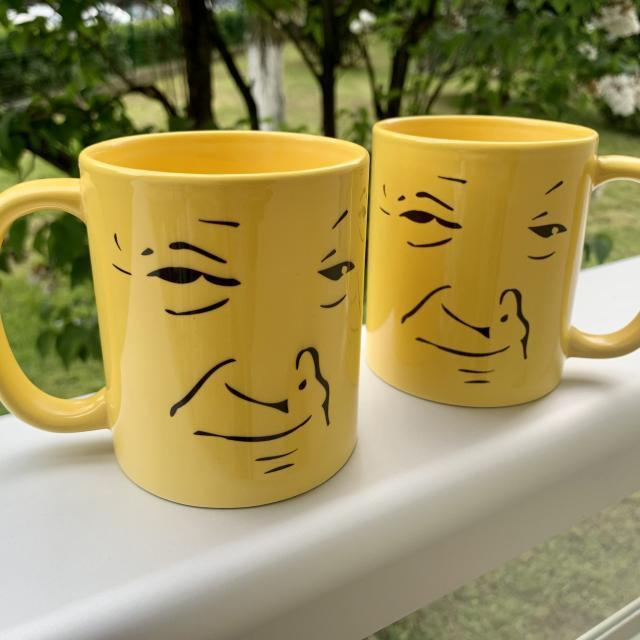Coffee Mug: (0, 132, 368, 512), (364, 116, 640, 409)
